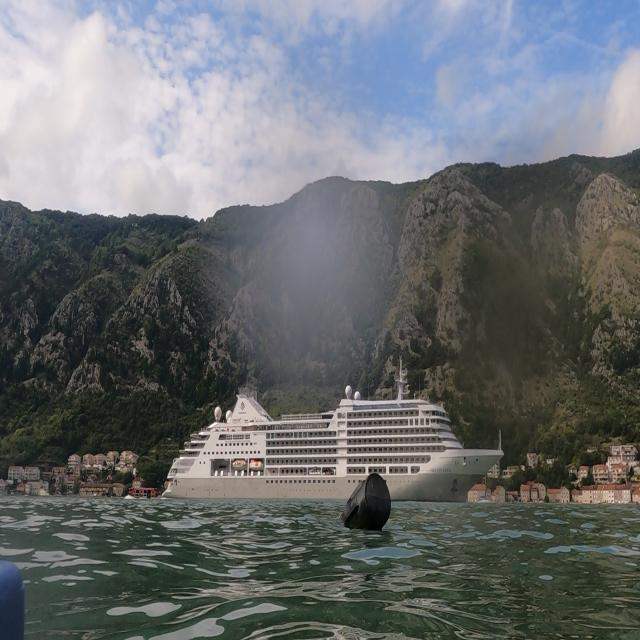boat: (159, 354, 505, 506)
buoy: (335, 466, 396, 542)
